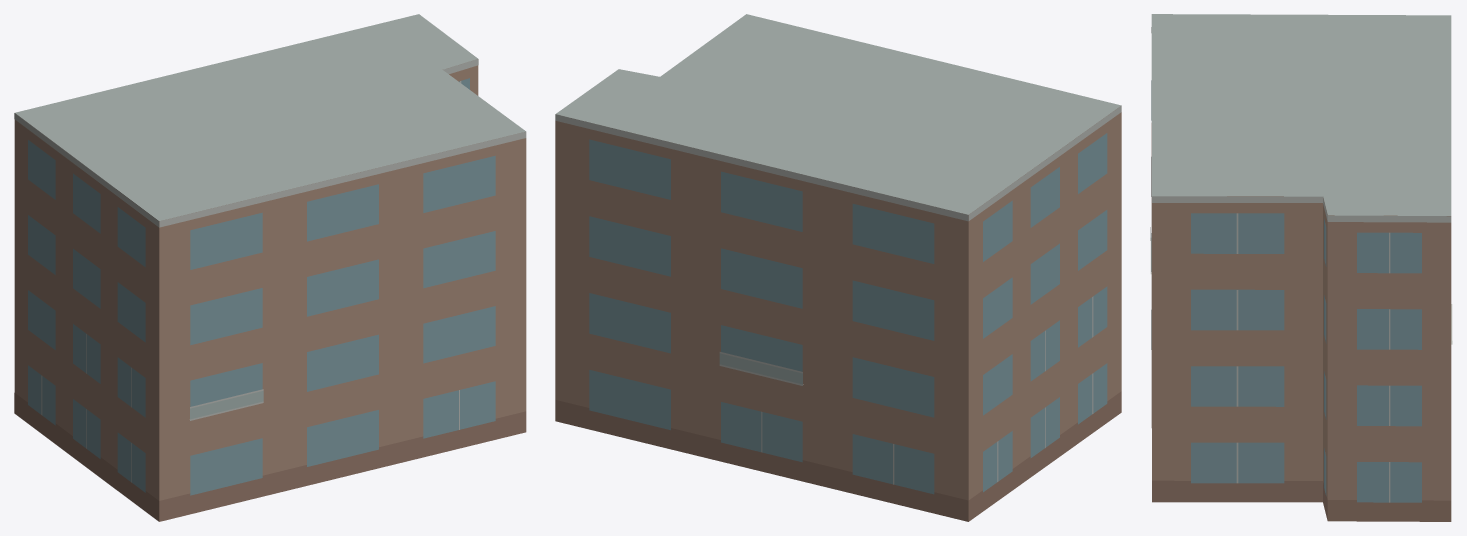
File: survey-upis-32910070.glb
The picture shows the model from 3 angles, left to right: view 1: azimuth 30°, elevation 25°; view 2: azimuth 150°, elevation 25°; view 3: azimuth 270°, elevation 25°; orthographic projection. The views are drawn at different scales.
Visible parts, largest first — view 1: survey-upis-32910070.tmp; view 2: survey-upis-32910070.tmp; view 3: survey-upis-32910070.tmp.
Part boxes in pixels (x1,y1,x2,y2): survey-upis-32910070.tmp: (14,14,526,521); survey-upis-32910070.tmp: (555,14,1121,521); survey-upis-32910070.tmp: (1150,14,1452,521).
Bounding box in the file's own units: 16.16 × 11.4 × 10.2.
